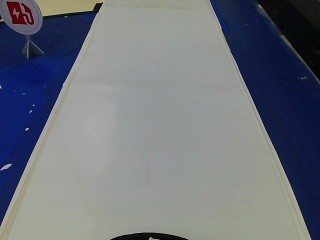battery: (0, 0, 43, 38)
